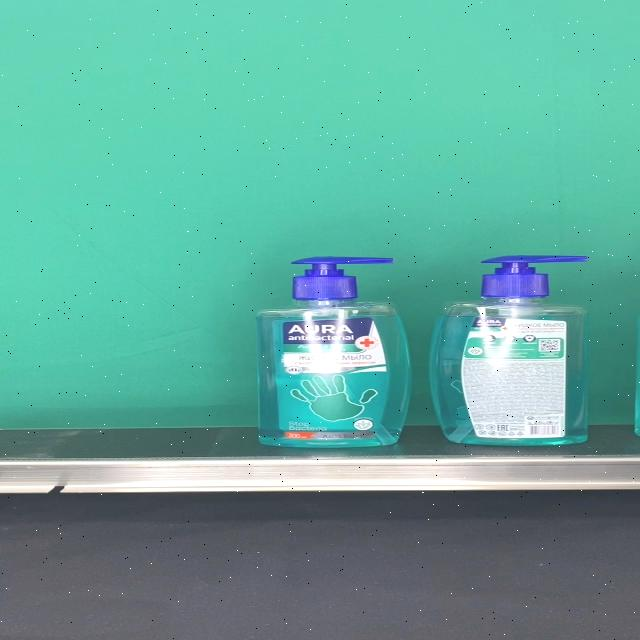Bottle: (429, 255, 590, 446), (255, 257, 411, 448)
Cap: (480, 255, 589, 298), (289, 257, 393, 300)
